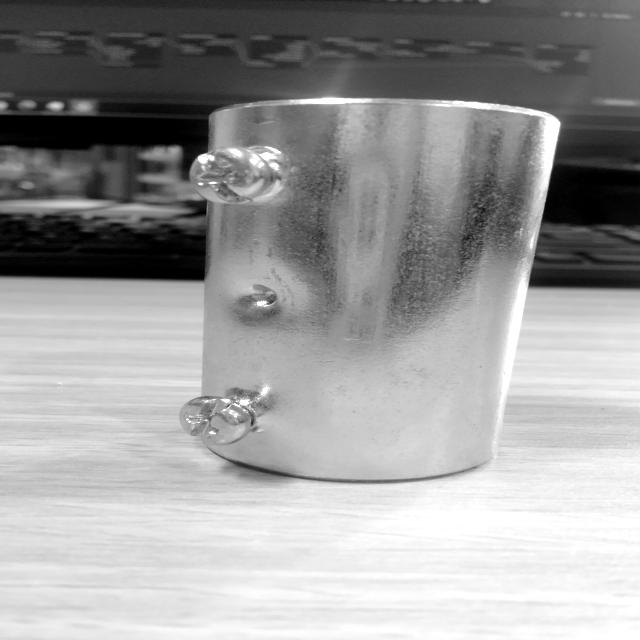Co_Nho: (171, 90, 560, 486)
